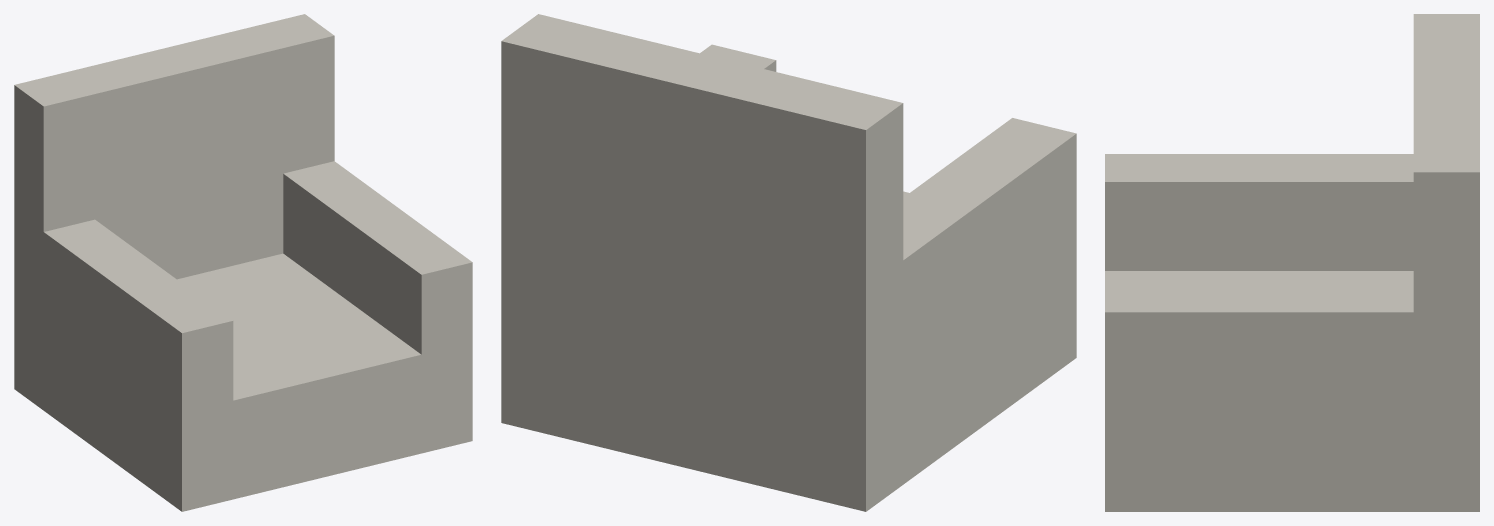
File: white_armchair.fbx
The picture shows the model from 3 angles, left to right: view 1: azimuth 30°, elevation 25°; view 2: azimuth 150°, elevation 25°; view 3: azimuth 270°, elevation 25°; orthographic projection. The views are drawn at different scales.
Visible parts, largest first — view 1: Cube; view 2: Cube; view 3: Cube.
Part boxes in pixels (box(x1,y1,x2,y2)): Cube: box(14, 14, 472, 511); Cube: box(501, 14, 1076, 511); Cube: box(1105, 14, 1479, 511).
Bounding box in the file's own units: 400 × 400 × 400.
